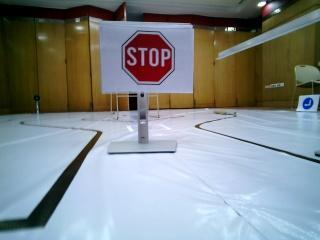stop: (108, 28, 183, 90)
